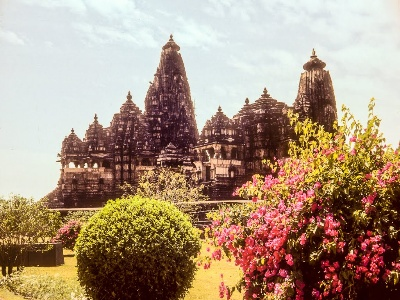amalaka: (292, 51, 340, 78), (155, 31, 192, 55)
gopuram: (138, 49, 205, 134), (286, 63, 346, 123)
mandapa: (82, 151, 118, 180), (56, 148, 93, 175)
